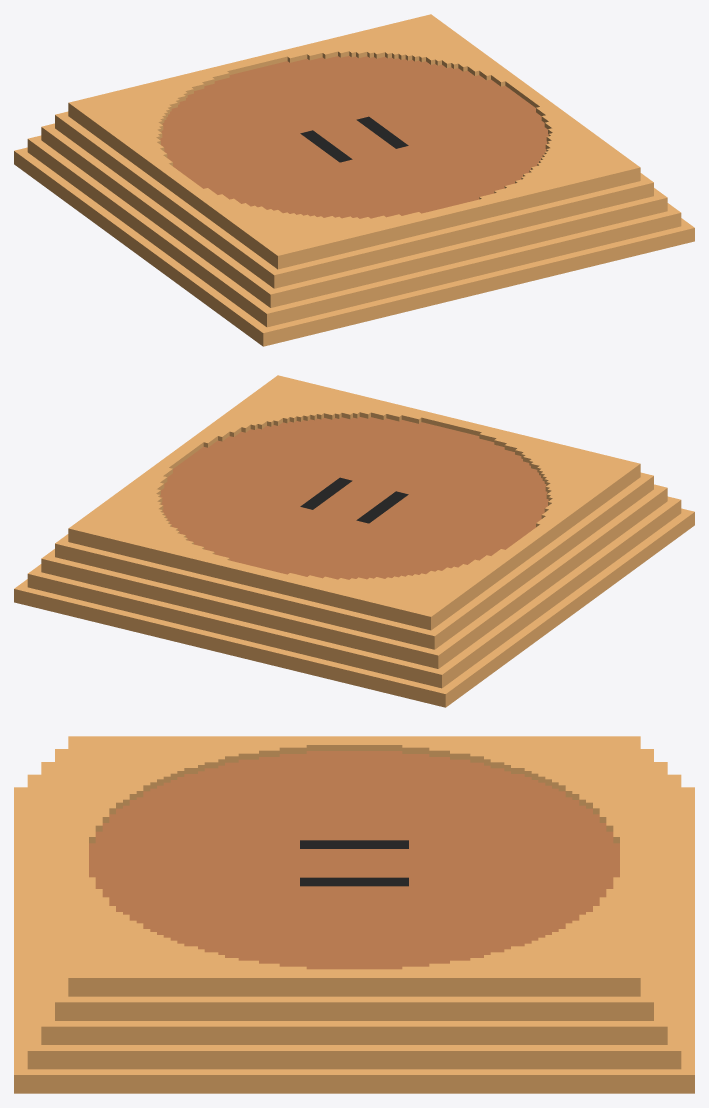
Rendered from Sumo Ring.obj.
3 renders of one model, top to bottom at view 1: azimuth 30°, elevation 25°; view 2: azimuth 150°, elevation 25°; view 3: azimuth 270°, elevation 25°, orthographic. The views are drawn at different scales.
Size of the model in its own units: 100 by 15 by 100.
Materials: 1 (1 with a texture image).
